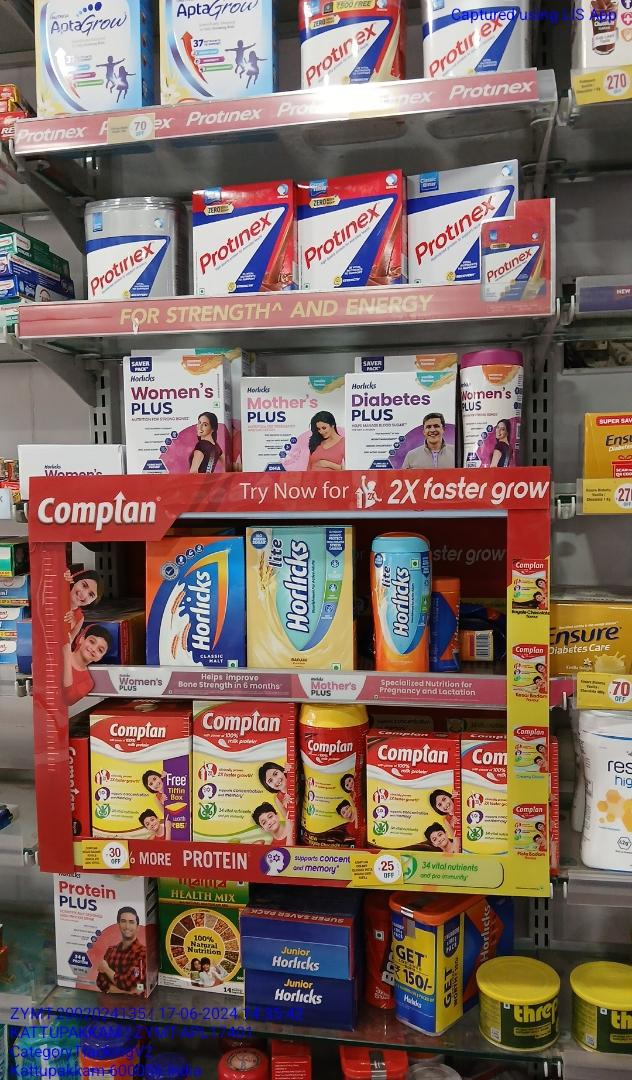COMPLAN_CHOCOLATE_500_GMS_JAR: (300, 704, 364, 847)
COMPLAN_CHOCOLATE_500_GMS_PACK: (367, 738, 461, 851)
COMPLAN_KESAR_BADAM_500_GMS_PACK: (91, 715, 188, 839)
COMPLAN_PISTA_BADAM_500_GMS_PACK: (195, 701, 293, 846)
HORLICK_CLASSIC_MALT_500_G_PACK: (145, 542, 243, 667)
PROTINEX_ORIGINAL_400_G_JAR: (84, 196, 178, 299)
